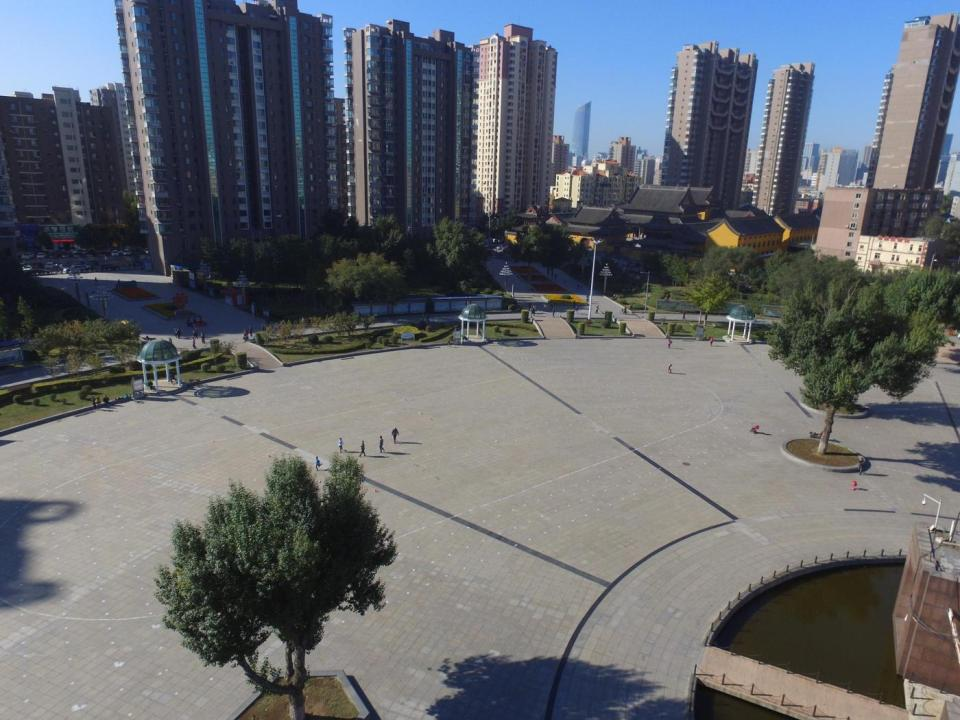car: (63, 265, 86, 273), (29, 268, 52, 274), (44, 260, 57, 267), (19, 266, 34, 272), (84, 261, 94, 270), (22, 251, 34, 258), (495, 244, 509, 250), (621, 260, 635, 266), (608, 257, 618, 265), (75, 249, 88, 255), (630, 262, 643, 268), (35, 253, 46, 260), (85, 250, 94, 258), (32, 262, 44, 268), (72, 261, 82, 268), (48, 251, 57, 258), (73, 251, 82, 258), (98, 252, 108, 258), (63, 251, 70, 259), (59, 260, 67, 267), (110, 251, 120, 256), (62, 264, 69, 270), (123, 250, 131, 255)
van: (100, 262, 121, 271)
